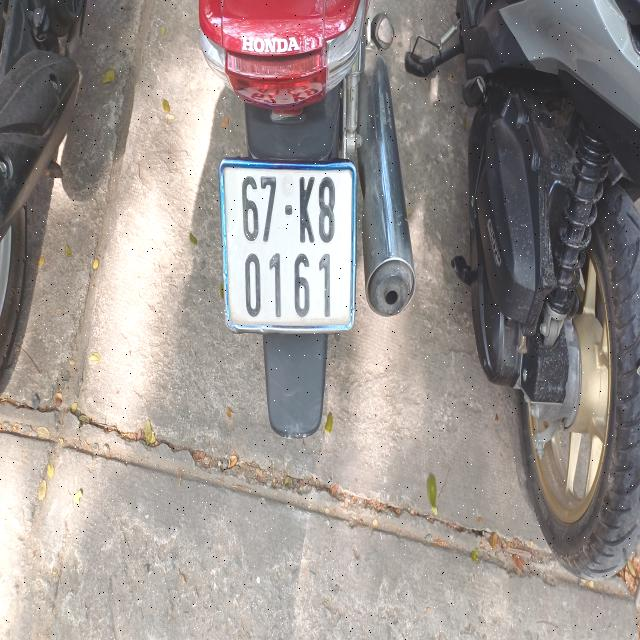0: (243, 252, 263, 318)
1: (269, 251, 283, 319), (319, 252, 333, 319)
6: (241, 174, 260, 242), (294, 252, 311, 318)
7: (260, 174, 278, 244)
8: (318, 176, 336, 243)
K: (298, 174, 314, 242)
